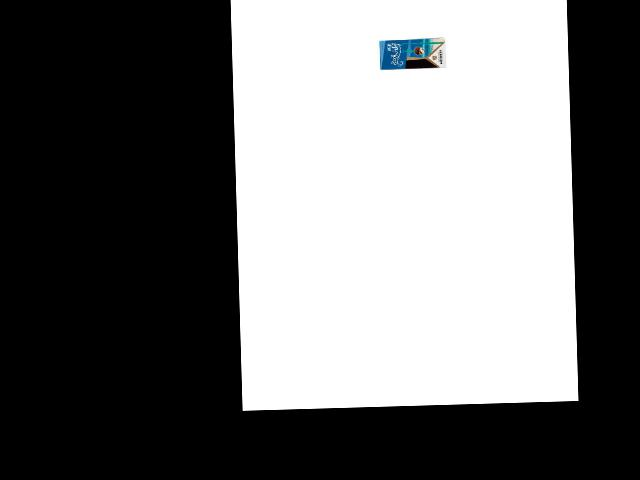chocolate: (378, 37, 448, 71)
